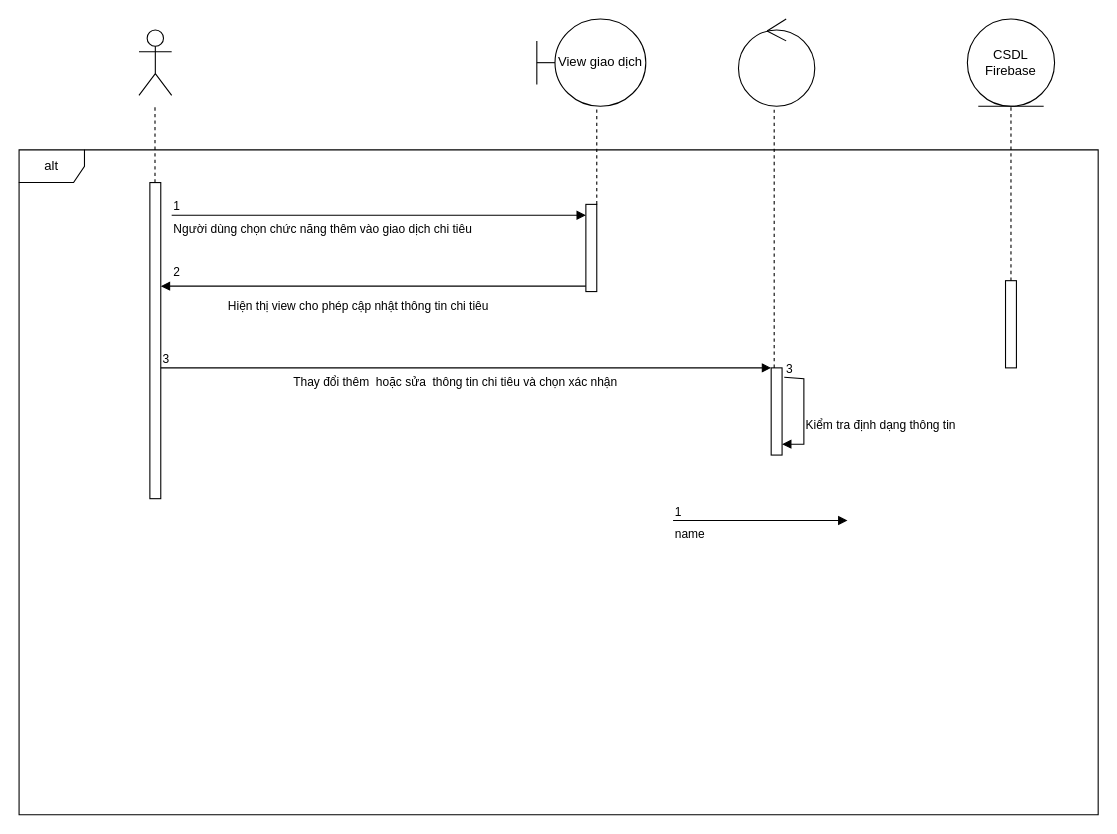
Some shapes in this 1117 by 834 pixel diagram are drawn without their labels. Here are the shapes that lost their labels. From the top down, the box of each, then its label:
(138, 29, 172, 95): User
(737, 18, 815, 106): Controller giao dịch
